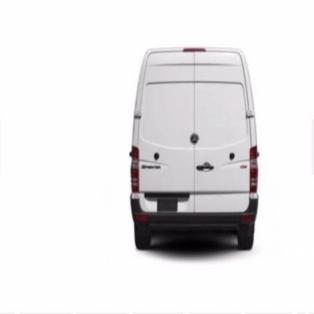Auto: (127, 39, 260, 255)
